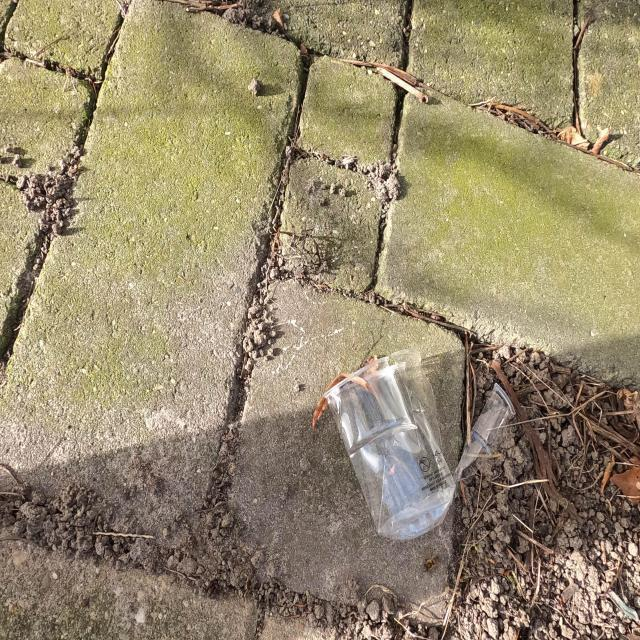Cup: (323, 347, 516, 543)
